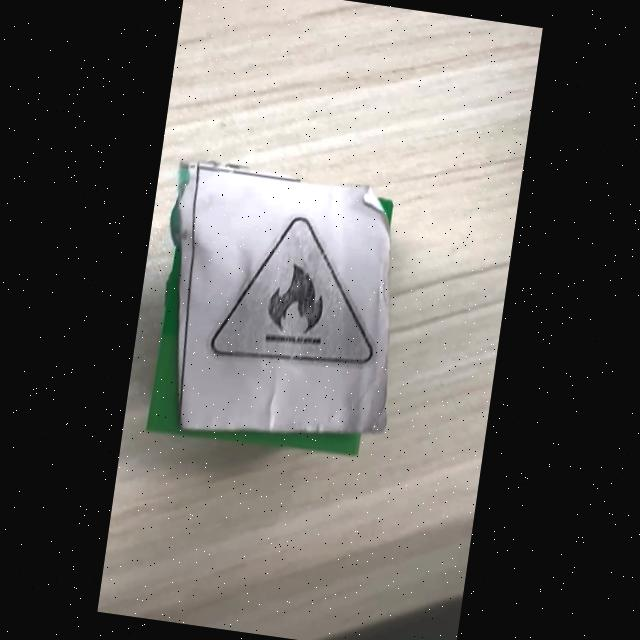Fire: (210, 217, 373, 364)
